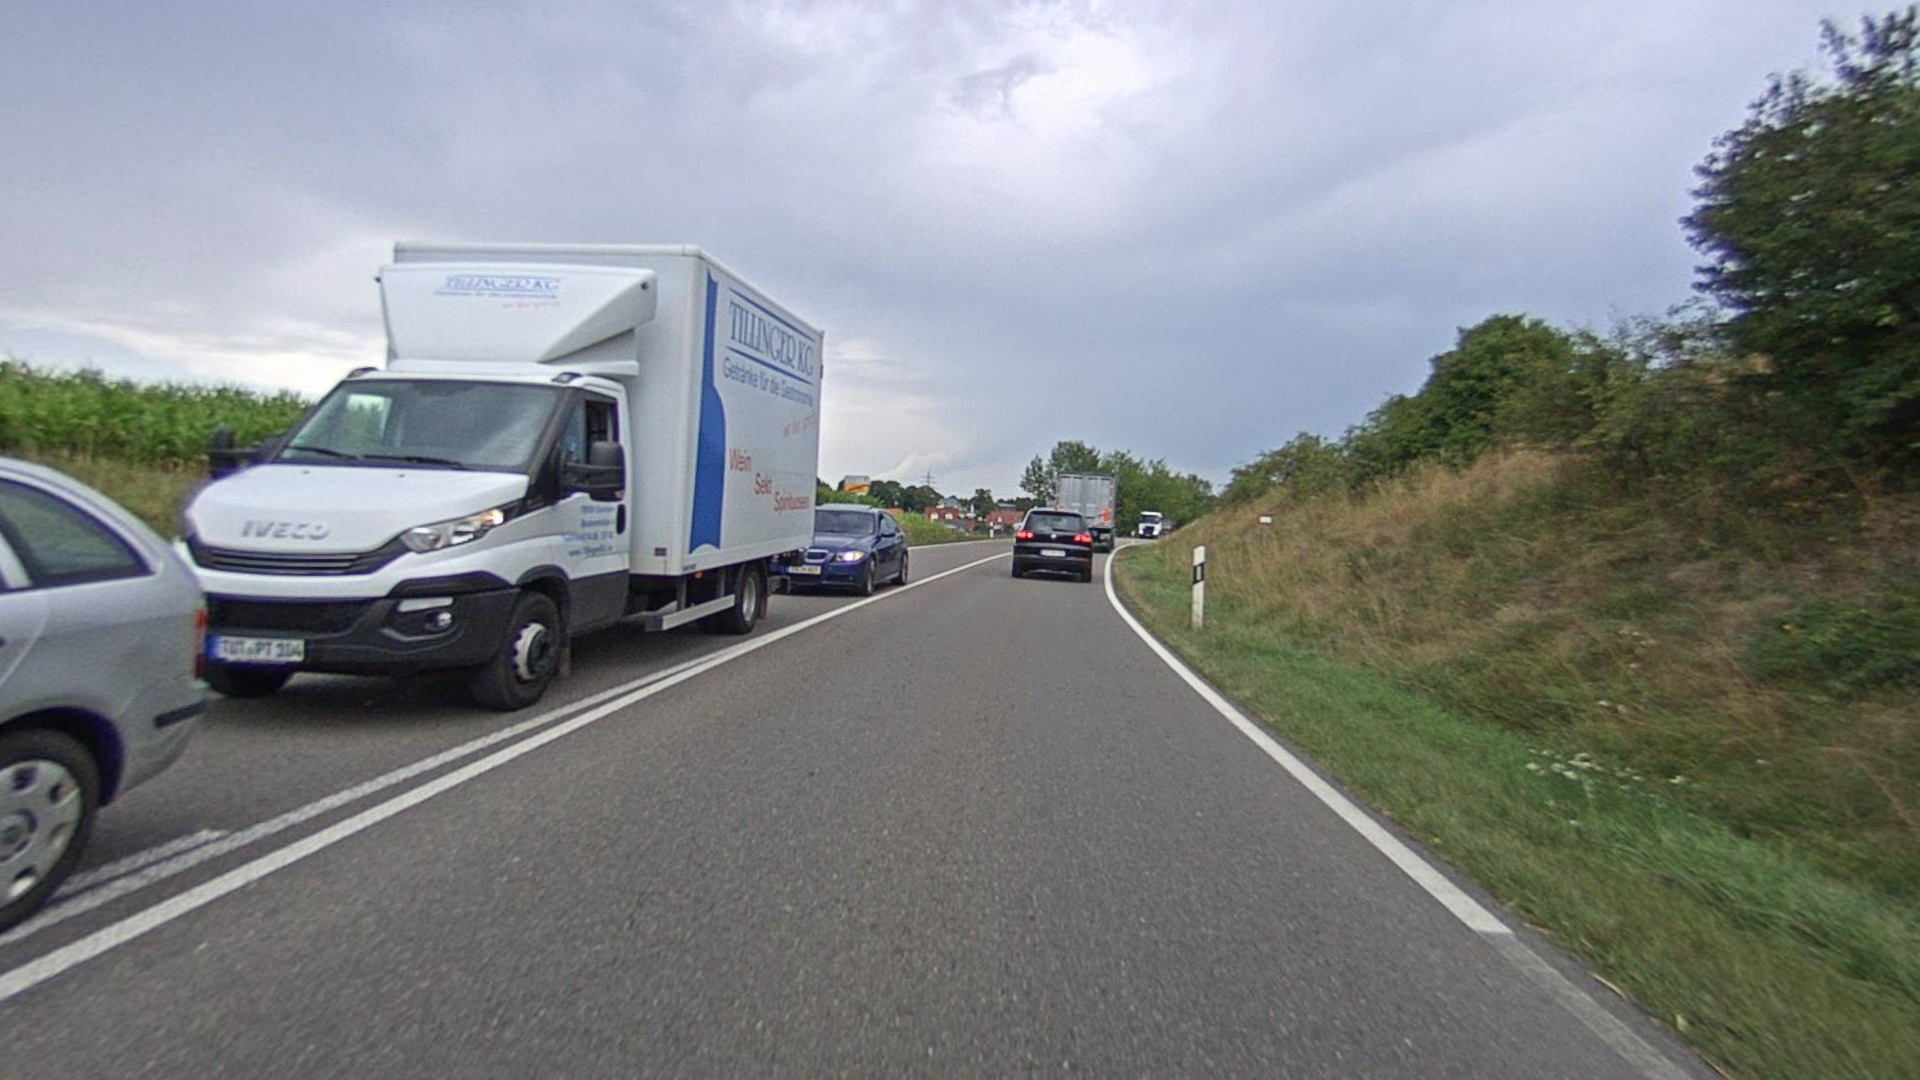truck: (171, 233, 829, 717)
